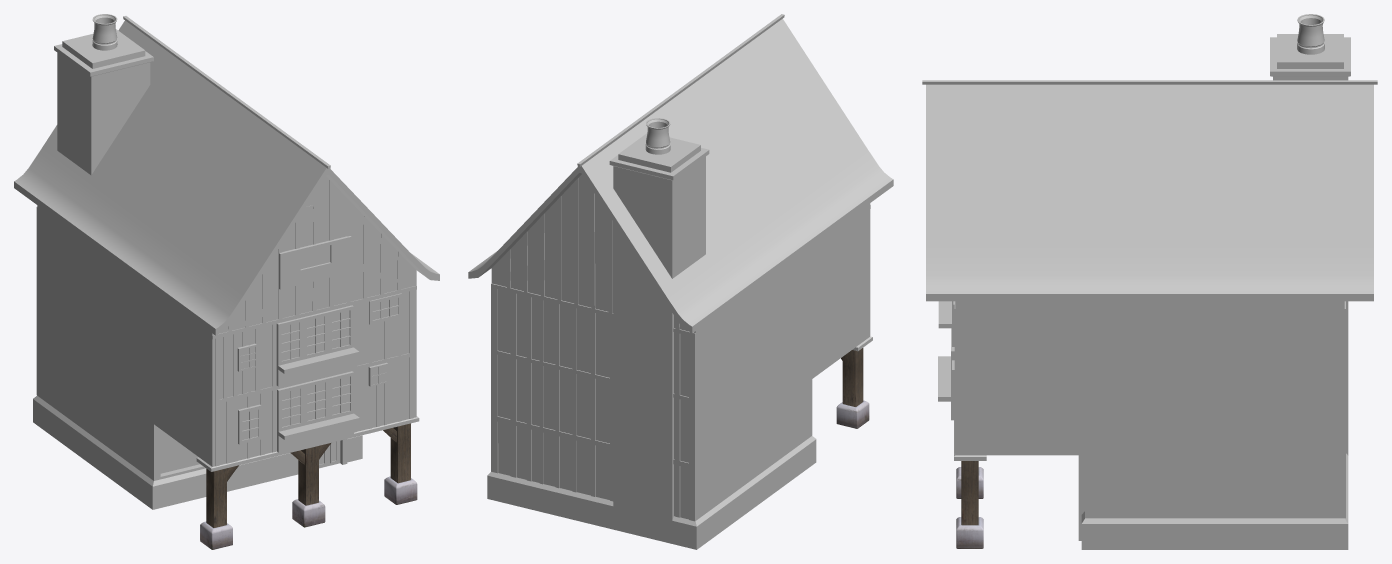
Rendered from JueunHouse.fbx.
3 views of the same model, side by side, from view 1: azimuth 30°, elevation 25°; view 2: azimuth 150°, elevation 25°; view 3: azimuth 270°, elevation 25° (orthographic). The views are drawn at different scales.
Parts seen in each view (by area): view 1: jueunHouse_Dust_house2, jueunHouse_Dust_Cylinder2, jueunHouse_Dust_AllWindow2, jueunHouse_Dust_column5; view 2: jueunHouse_Dust_house2, jueunHouse_Dust_Cylinder2, jueunHouse_Dust_column5; view 3: jueunHouse_Dust_Cylinder2, jueunHouse_Dust_house2, jueunHouse_Dust_column5, jueunHouse_Dust_AllWindow2.
Part boxes in pixels (x1,y1,x2,y2): jueunHouse_Dust_house2: [33, 176, 419, 509]; jueunHouse_Dust_Cylinder2: [14, 14, 439, 468]; jueunHouse_Dust_AllWindow2: [237, 195, 401, 452]; jueunHouse_Dust_column5: [200, 423, 417, 549]; jueunHouse_Dust_house2: [487, 174, 872, 549]; jueunHouse_Dust_Cylinder2: [468, 14, 893, 543]; jueunHouse_Dust_column5: [836, 348, 869, 428]; jueunHouse_Dust_Cylinder2: [922, 14, 1377, 540]; jueunHouse_Dust_house2: [954, 301, 1348, 549]; jueunHouse_Dust_column5: [956, 461, 983, 548]; jueunHouse_Dust_AllWindow2: [938, 301, 954, 420].
Size of the model in its own units: 817 by 1399 by 1293.
